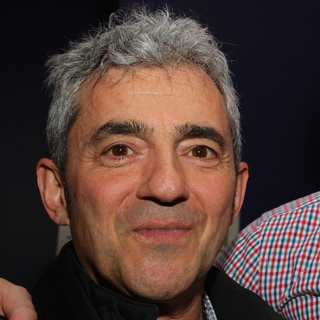eye: (179, 142, 226, 165), (98, 140, 142, 162)
